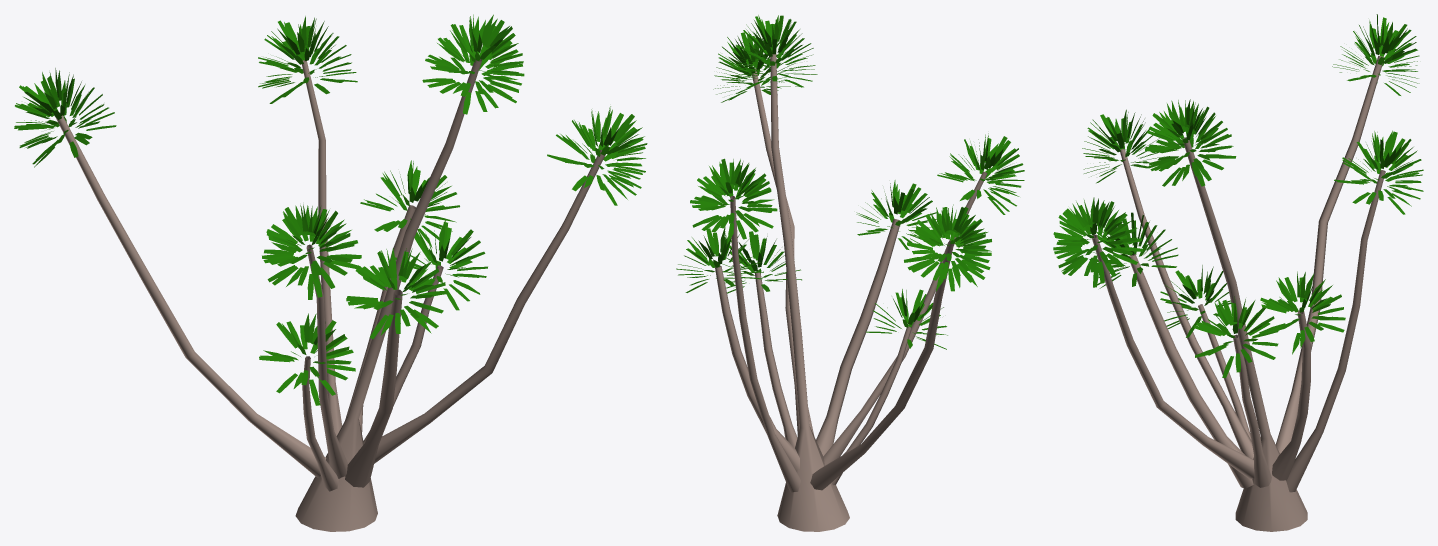
Rendered from YukaBush_02.fbx.
The picture shows the model from 3 angles, left to right: view 1: azimuth 30°, elevation 25°; view 2: azimuth 150°, elevation 25°; view 3: azimuth 270°, elevation 25°; orthographic projection. The views are drawn at different scales.
Parts seen in each view (by area): view 1: Foliage001; view 2: Foliage001; view 3: Foliage001.
Part boxes in pixels (x1=…): Foliage001: x1=14, y1=14, x2=647, y2=531; Foliage001: x1=676, y1=15, x2=1024, y2=531; Foliage001: x1=1053, y1=14, x2=1423, y2=531.
Bounding box in the file's own units: 101 × 77.95 × 106.
